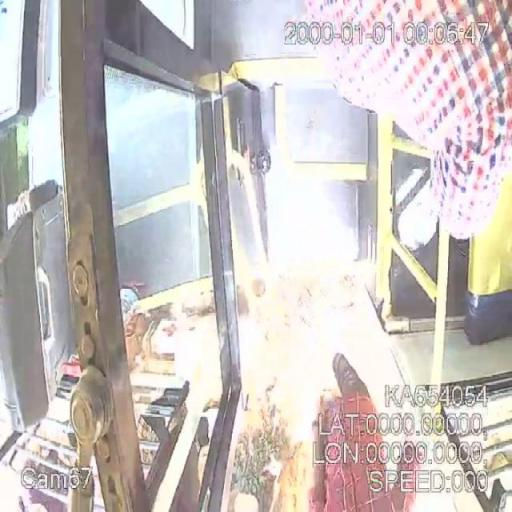persona: (298, 0, 512, 242), (310, 351, 416, 511)
